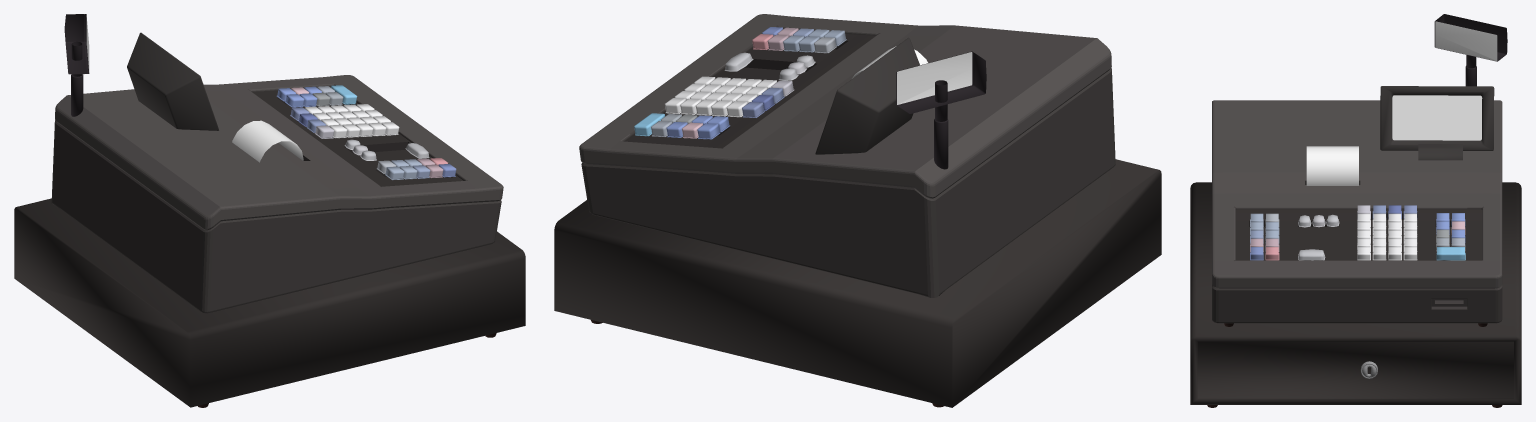
Rendered from uploads_files_4125776_cash.glb.
3 views of the same model, side by side, from view 1: azimuth 30°, elevation 25°; view 2: azimuth 150°, elevation 25°; view 3: azimuth 270°, elevation 25° (orthographic). The views are drawn at different scales.
Parts seen in each view (by area): view 1: cash02, cash01, Cube.008, cash02.001, Cube.001, Cylinder.011, Cube.005, Cube.009, Cube.006, Cylinder; view 2: cash02, cash01, Cube.008, cash02.001, Cube.001, Cube.009, Cube.005, Cube.006, Cylinder; view 3: cash02, cash01, cash02.001, Cube.008, Cube.001, Cube.009, Cylinder.011, Cube.005, Cube.006, Plane, Cube.007.
Boxes of the visible parts, x1,y1,x2,y2 form: cash02: (51, 75, 503, 313); cash01: (14, 198, 525, 407); Cube.008: (127, 32, 218, 130); cash02.001: (252, 86, 463, 186); Cube.001: (290, 104, 399, 138); Cylinder.011: (232, 120, 303, 162); Cube.005: (376, 158, 456, 180); Cube.009: (64, 14, 89, 74); Cube.006: (276, 86, 343, 107); Cylinder: (71, 74, 83, 116); cash02: (579, 14, 1115, 297); cash01: (554, 159, 1161, 407); Cube.008: (815, 37, 919, 154); cash02.001: (624, 34, 875, 148); Cube.001: (665, 76, 794, 118); Cube.009: (896, 51, 986, 113); Cube.005: (752, 27, 846, 53); Cube.006: (651, 114, 730, 139); Cylinder: (934, 119, 948, 169); cash02: (1212, 100, 1502, 323); cash01: (1190, 182, 1521, 404); cash02.001: (1235, 209, 1482, 260); Cube.008: (1380, 86, 1494, 150); Cube.001: (1357, 205, 1417, 260); Cube.009: (1434, 14, 1507, 61); Cylinder.011: (1306, 146, 1358, 185); Cube.005: (1250, 213, 1279, 260); Cube.006: (1436, 213, 1465, 251); Plane: (1418, 144, 1462, 160); Cube.007: (1436, 247, 1465, 260).
Size of the model in its own units: 1.8 by 1.38 by 1.63.
